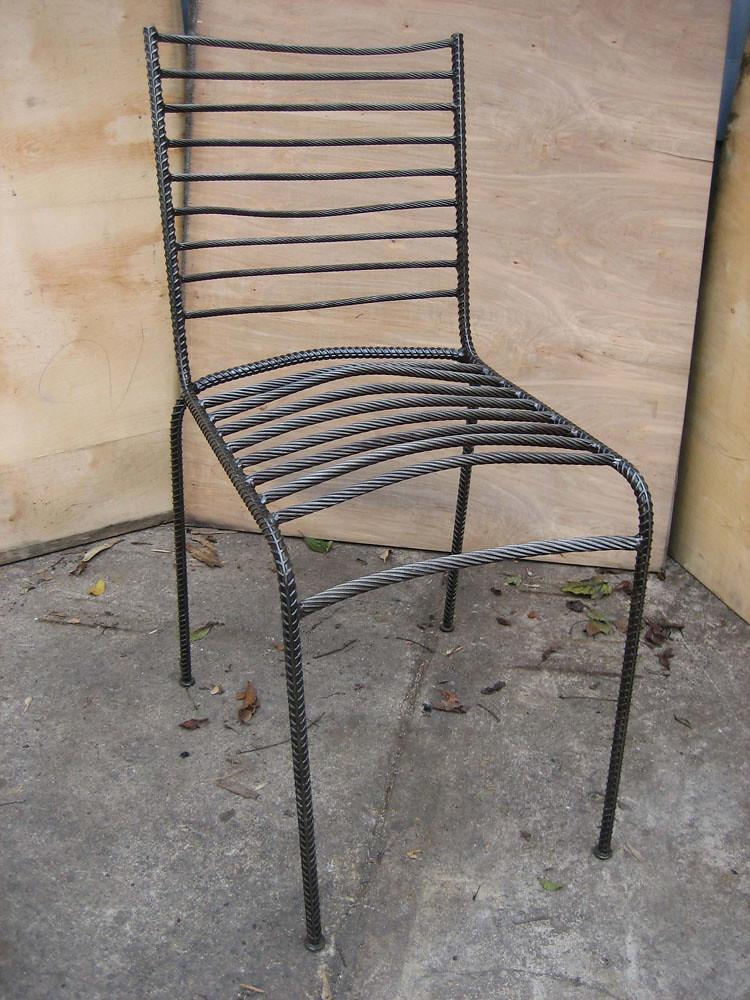chair: (143, 24, 656, 952)
